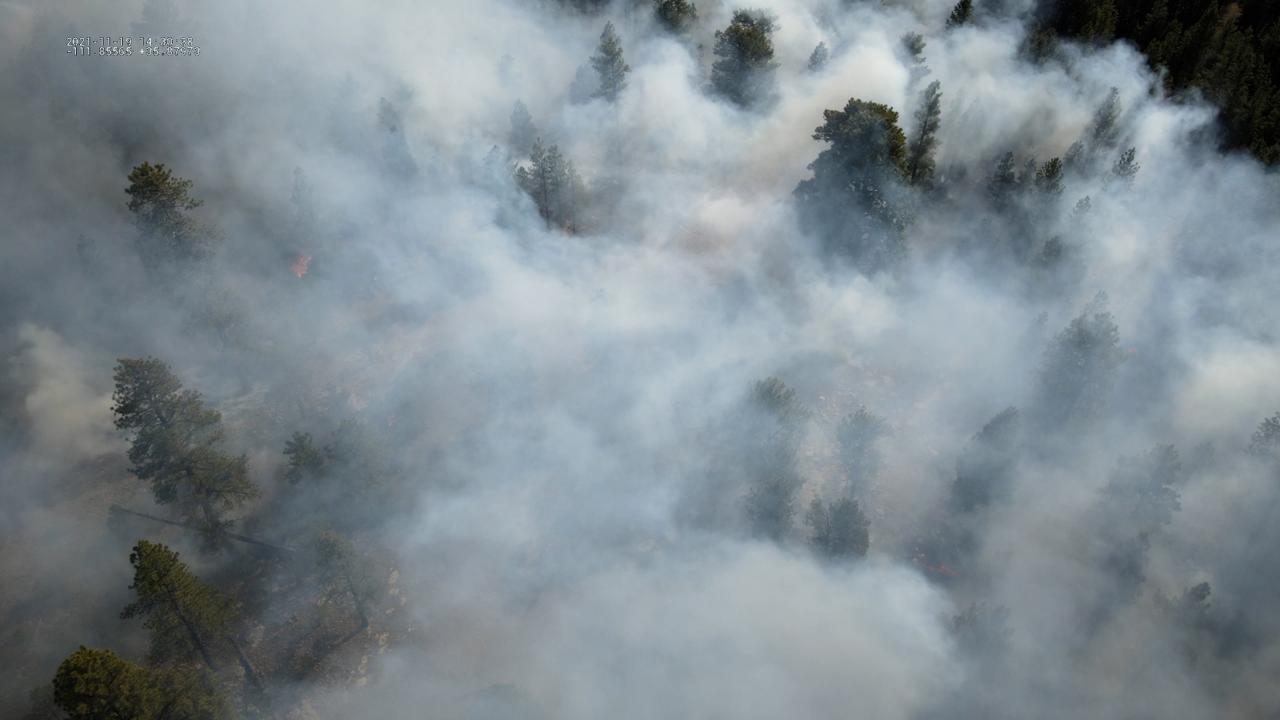fire: (289, 251, 312, 279)
smoke: (0, 0, 1280, 720)
